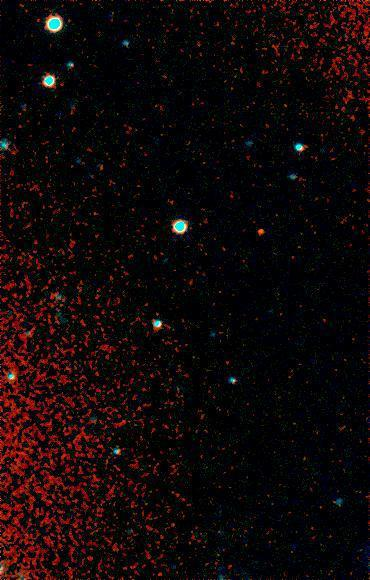star: (244, 216, 274, 246)
